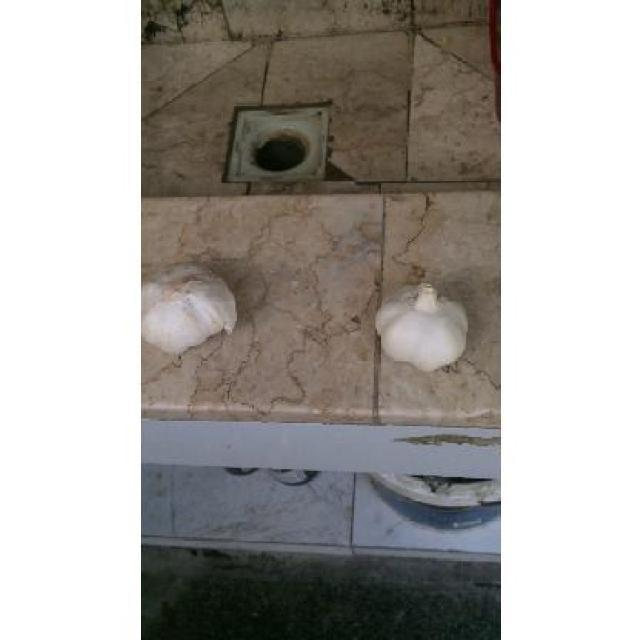garlic: (142, 264, 236, 353), (375, 282, 468, 371)
